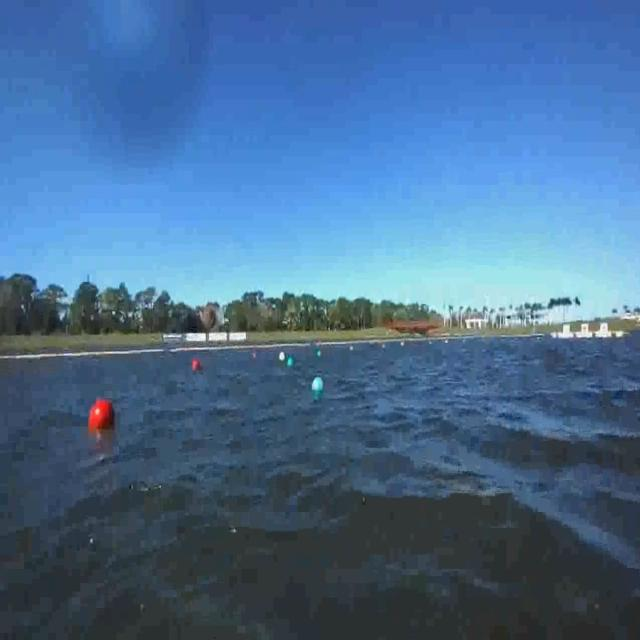green-buoy: (312, 375, 325, 398), (286, 357, 294, 367)
red-buoy: (90, 400, 118, 438), (191, 358, 201, 372)
